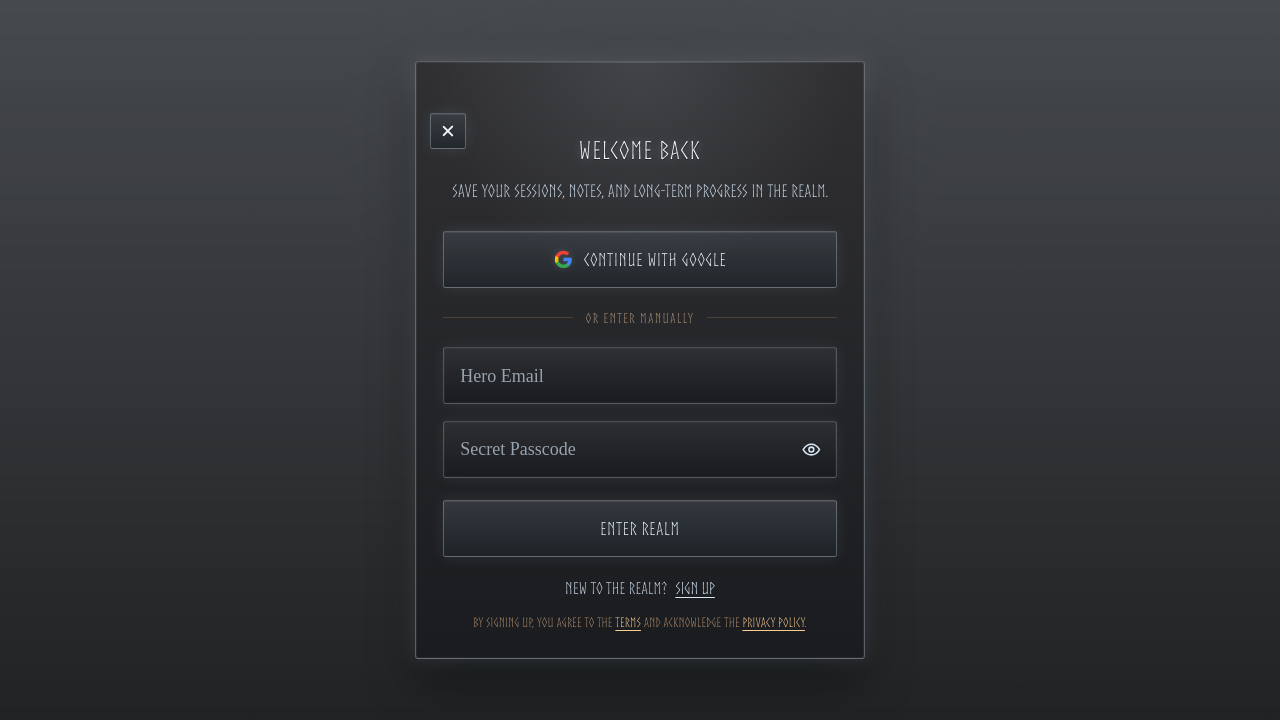
Test: AuthBlock › renders Google auth in both log in and sign up modes
Expected: the heading "Welcome Back" is shown, [579, 138, 701, 162]
Expected: the button "Continue with Google" is shown, [443, 231, 837, 288]
Click the button "Sign Up": (695, 588) [675, 575, 715, 602]
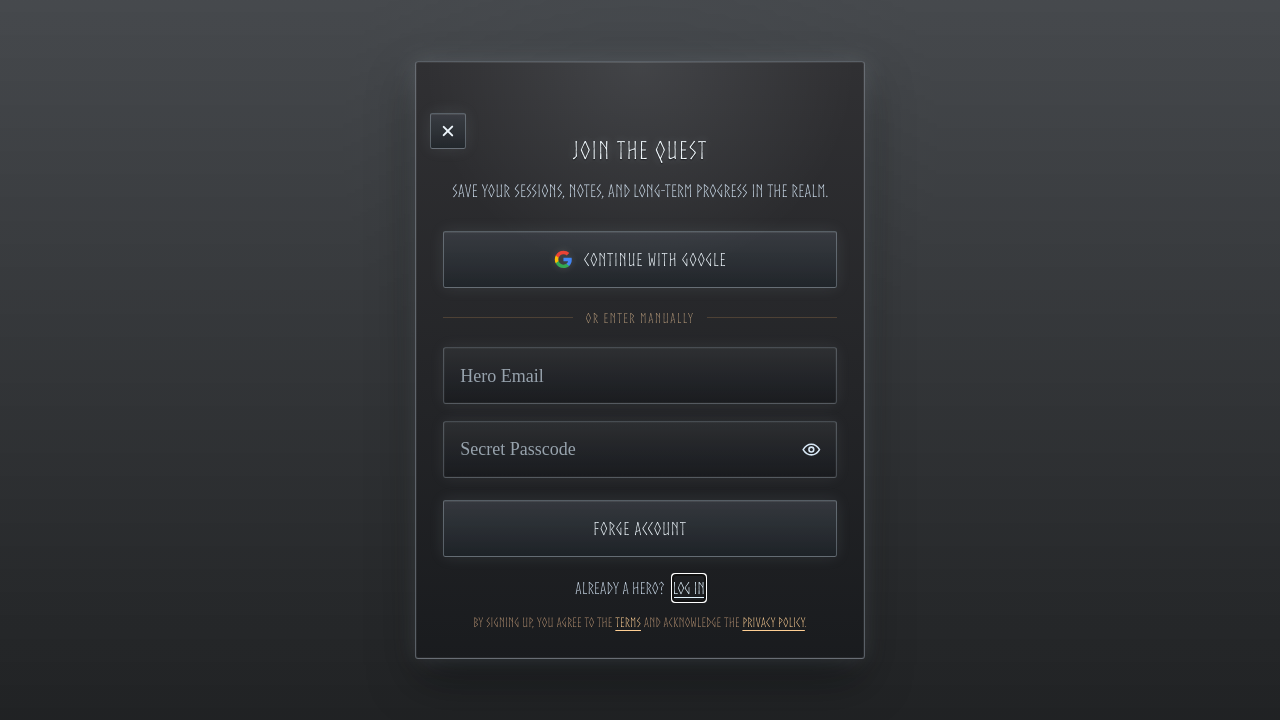
Expected: the button "Continue with Google" is shown, [443, 231, 837, 288]
Expected: the heading "Join the Quest" is shown, [572, 138, 708, 162]
